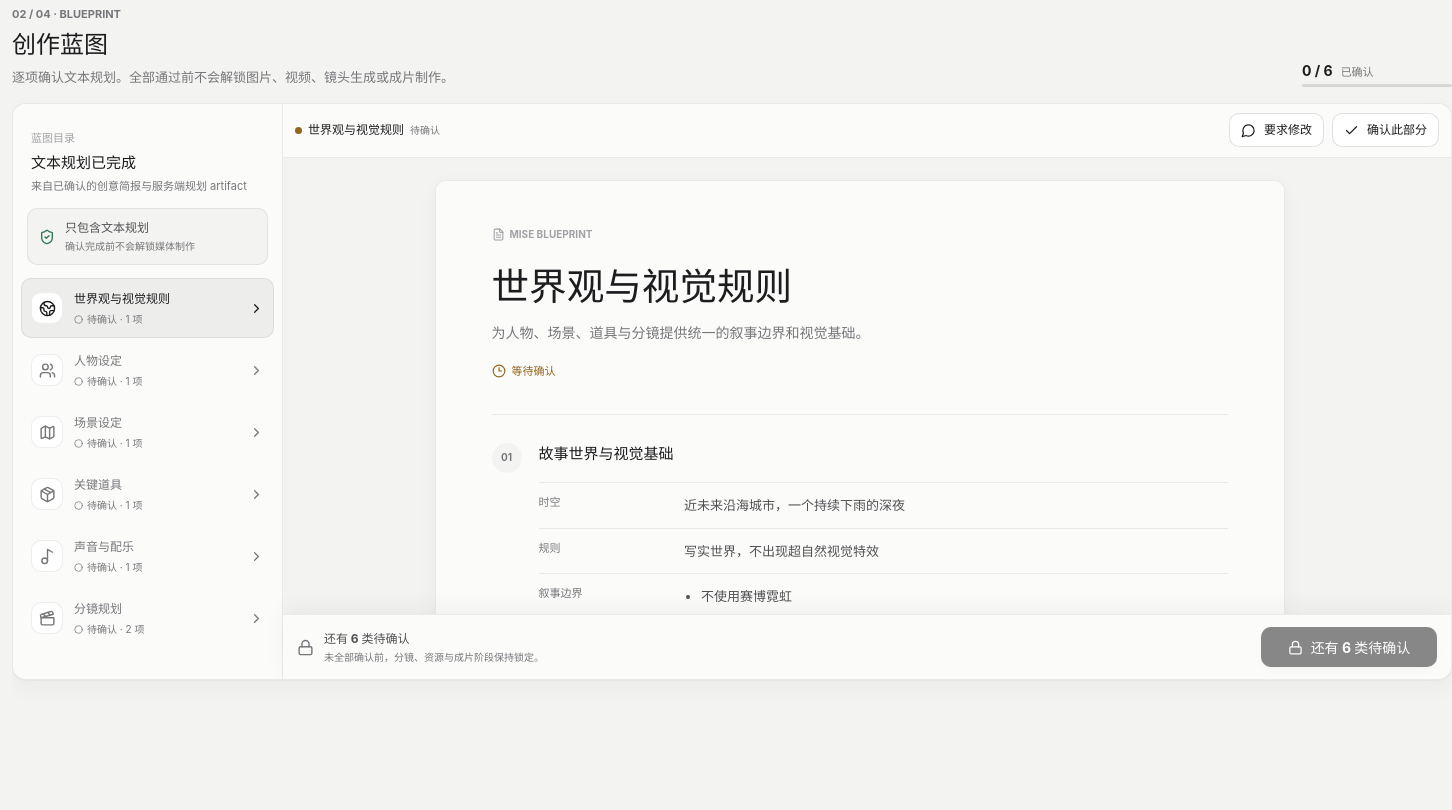
PlanReviewPage › maps all six server-backed plan documents and required fields
Expected: the text "近未来沿海城市，一个持续下雨的深夜" is shown, [684,497,905,513]
Expected: the list item "不使用赛博霓虹" is shown, [701,588,792,604]
Step 1. Click the button "人物设定 待确认 · 1 项" → (148, 370), box [21,340,274,400]
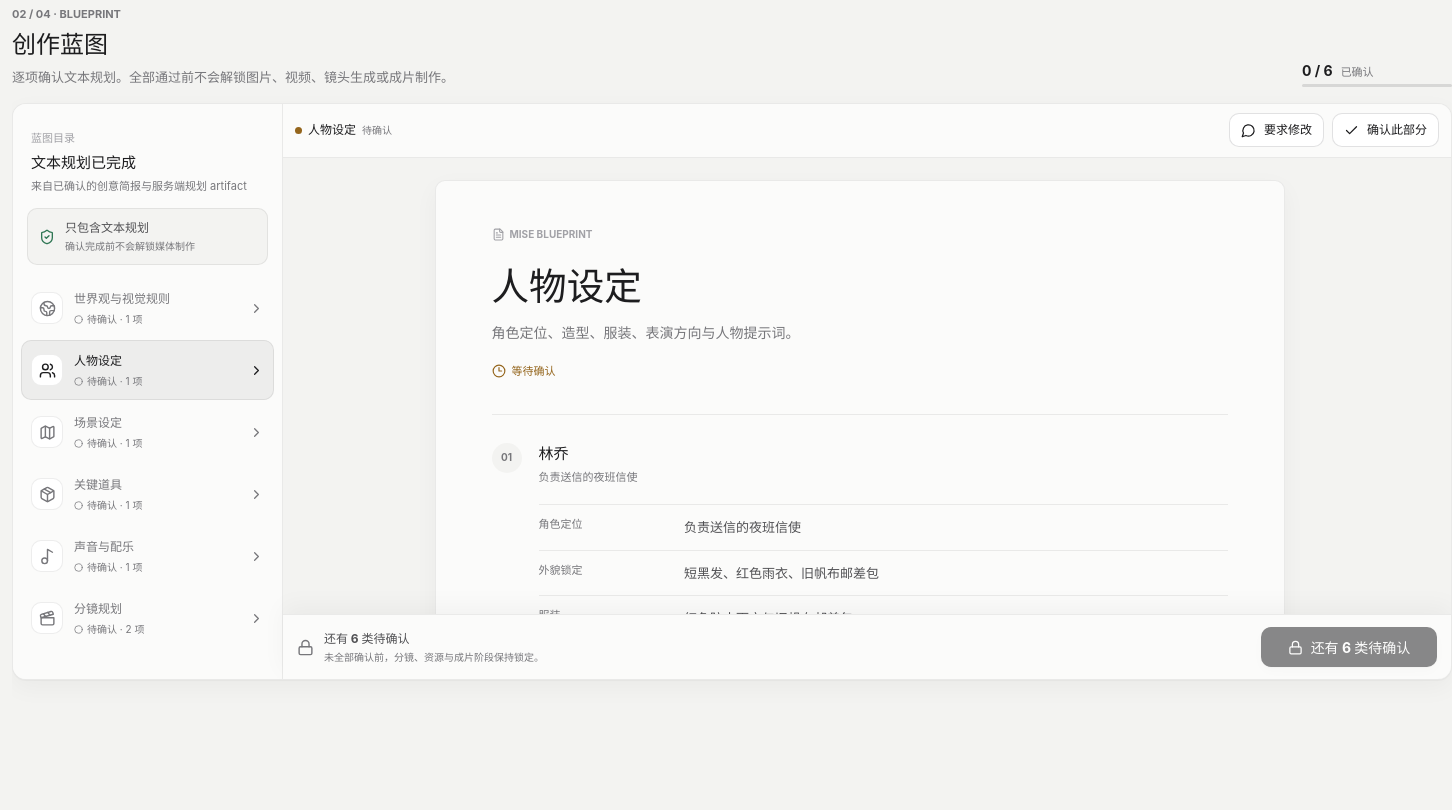
Expected: the text "负责送信的夜班信使" is shown 2 times, [538,470,638,484]; [684,519,801,535]
Expected: the text "短黑发、红色雨衣、旧帆布邮差包" is shown 2 times
Step 2. Click the button "场景设定 待确认 · 1 项" → (148, 432), box [21,402,274,462]
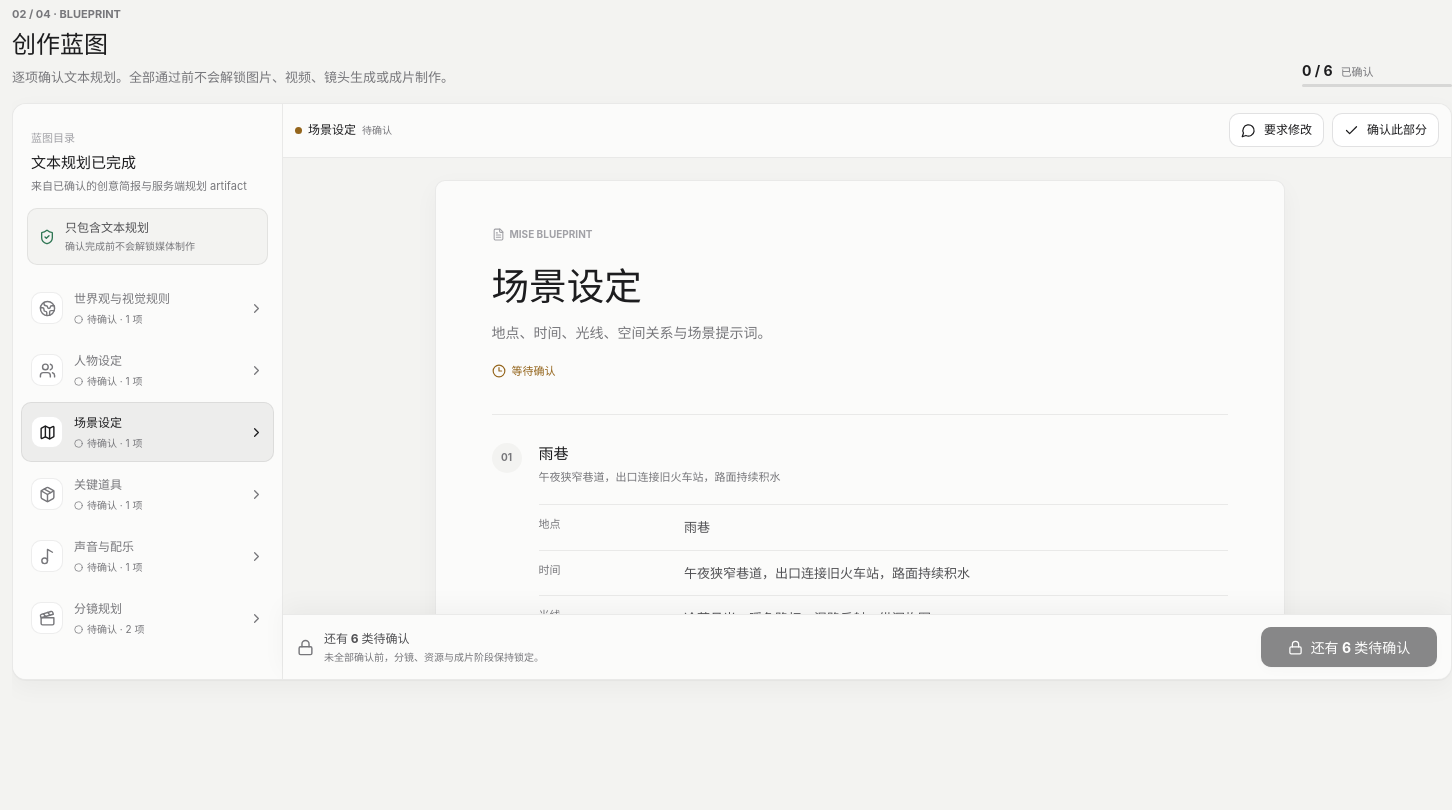
Expected: the text "午夜狭窄巷道，出口连接旧火车站，路面持续积水" is shown 3 times
Step 3. Click the button "关键道具 待确认 · 1 项" → (148, 494), box [21,464,274,524]
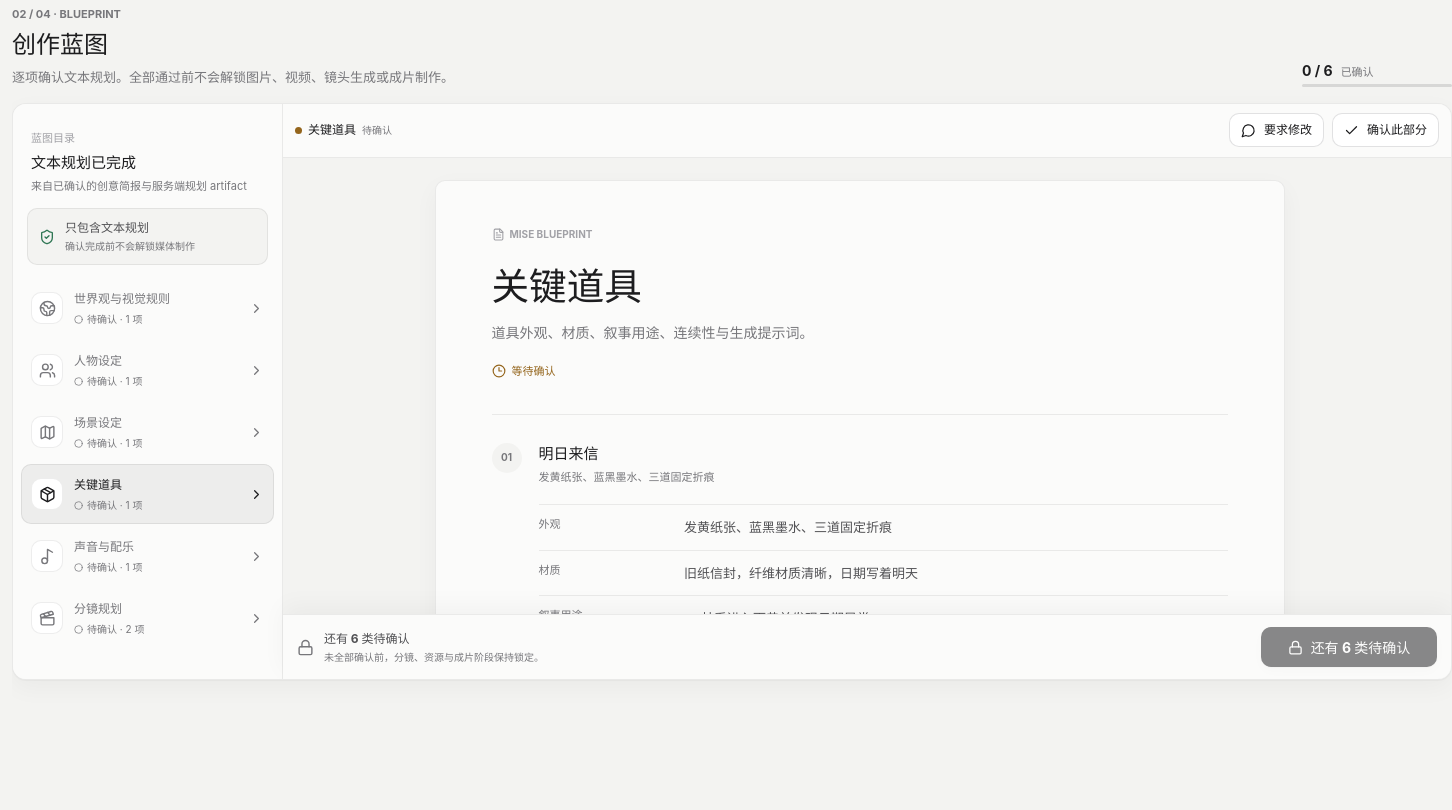
Expected: the text "旧纸信封，纤维材质清晰，日期写着明天" is shown 2 times
Step 4. Click the button "声音与配乐 待确认 · 1 项" → (148, 556), box [21,526,274,586]
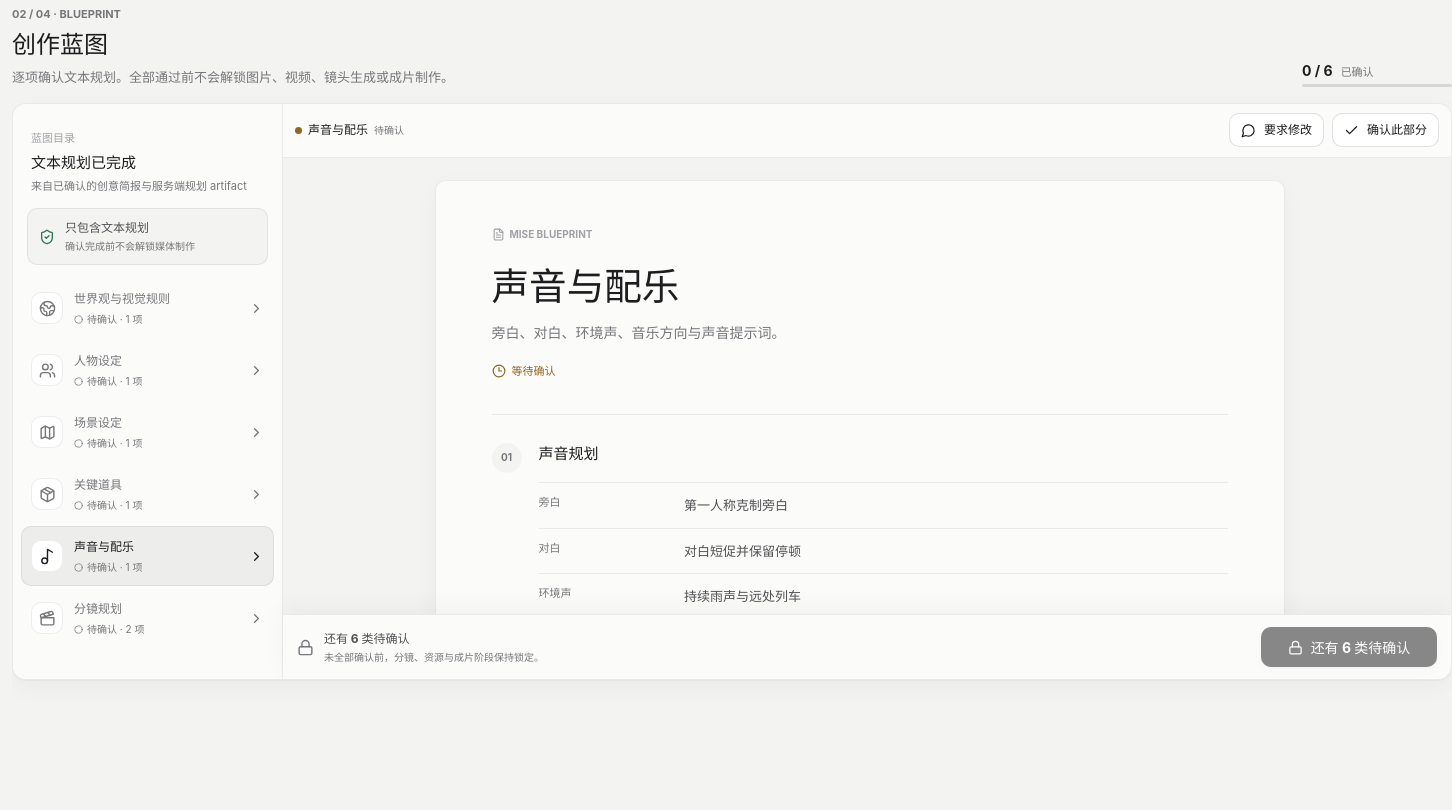
Expected: the text "第一人称克制旁白" is shown, [684,497,788,513]
Step 5. Click the button "分镜规划 待确认 · 2 项" → (148, 618), box [21,588,274,648]
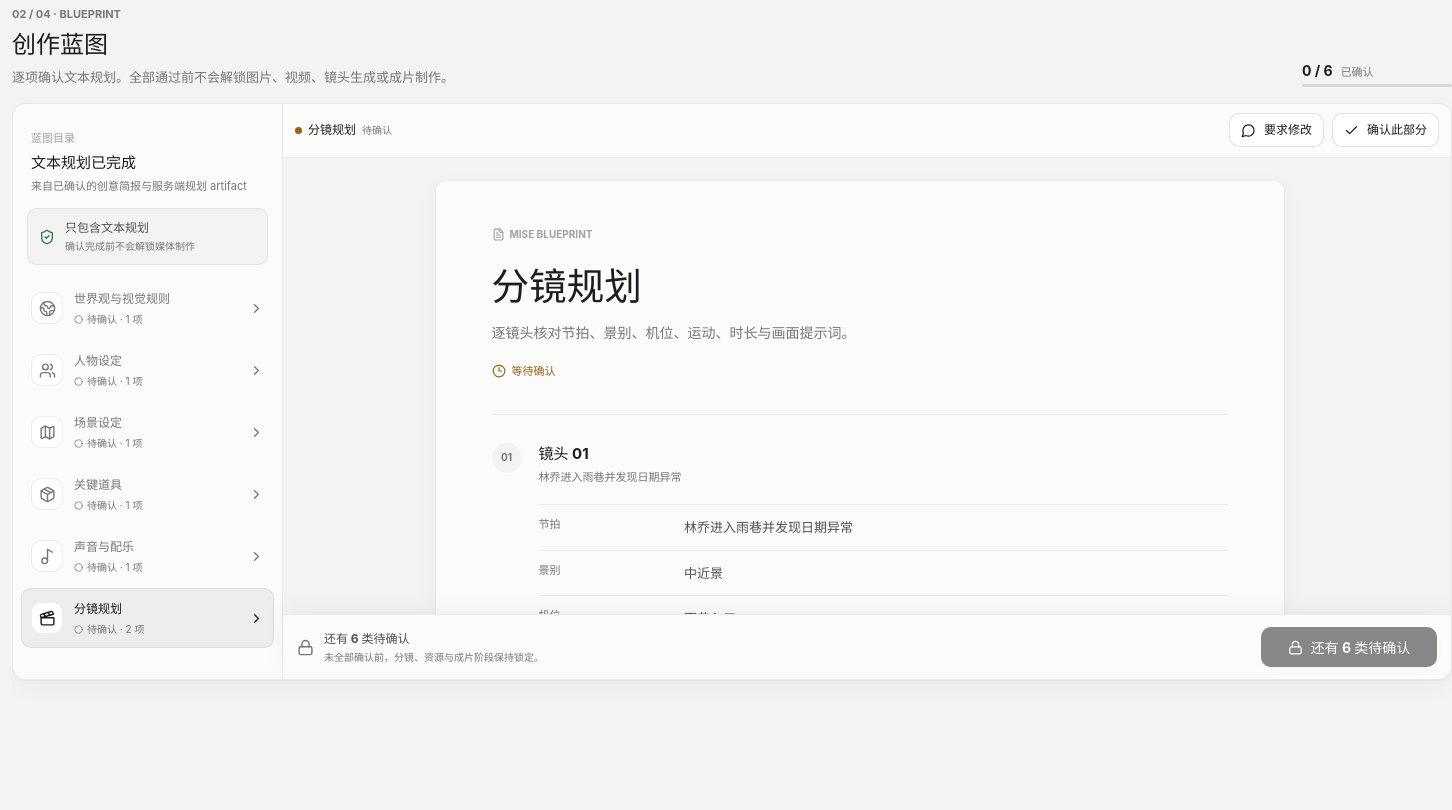
Expected: the text "中近景" is shown, [684,565,723,581]
